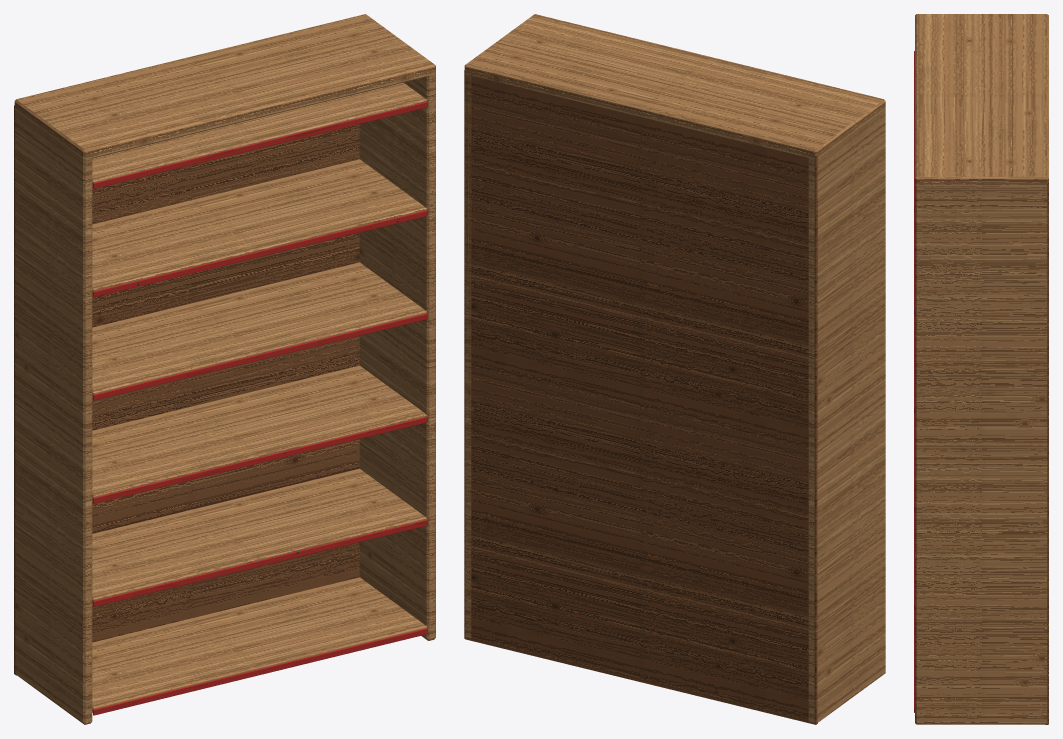
The model's file is mk_shelf.glb.
3 renders of one model, left to right at view 1: azimuth 30°, elevation 25°; view 2: azimuth 150°, elevation 25°; view 3: azimuth 270°, elevation 25°, orthographic. The views are drawn at different scales.
Visible parts, largest first — view 1: p; view 2: p; view 3: p.
Part boxes in pixels (x1,y1,x2,y2): p: (14, 14, 435, 724); p: (464, 14, 885, 724); p: (914, 14, 1048, 724).
Size of the model in its own units: 1.36 by 2.12 by 0.473.
3 materials, 3 textured.
